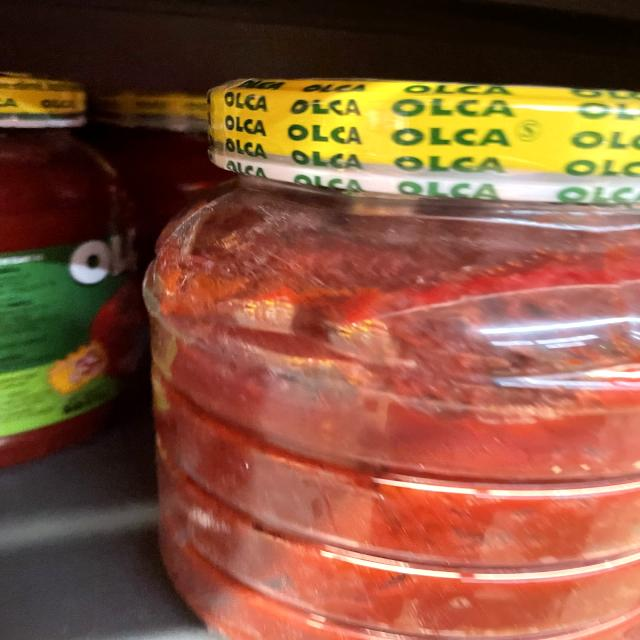tomato paste: (145, 79, 640, 640)
